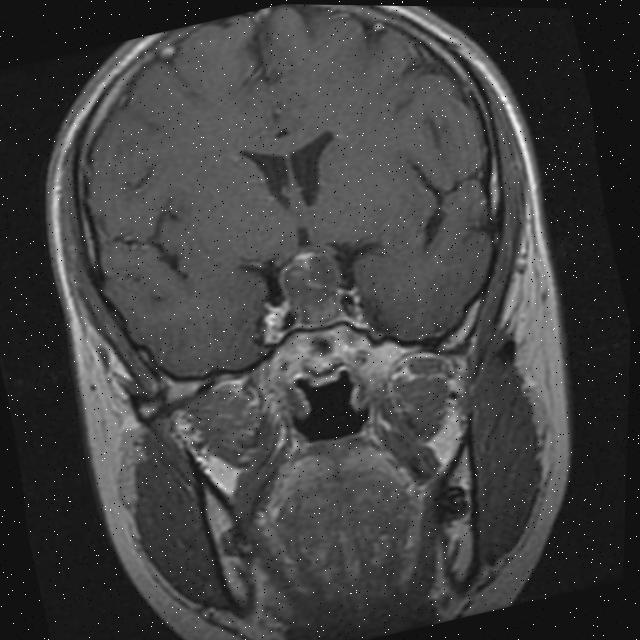Pituitary: (271, 244, 353, 336)
